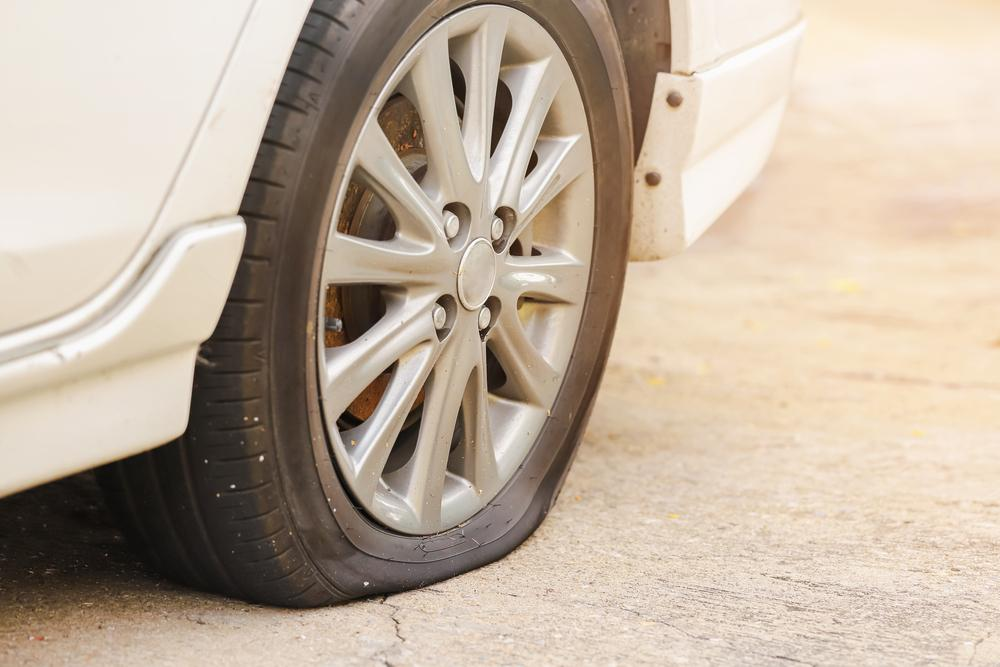tire flat: (115, 0, 633, 611)
